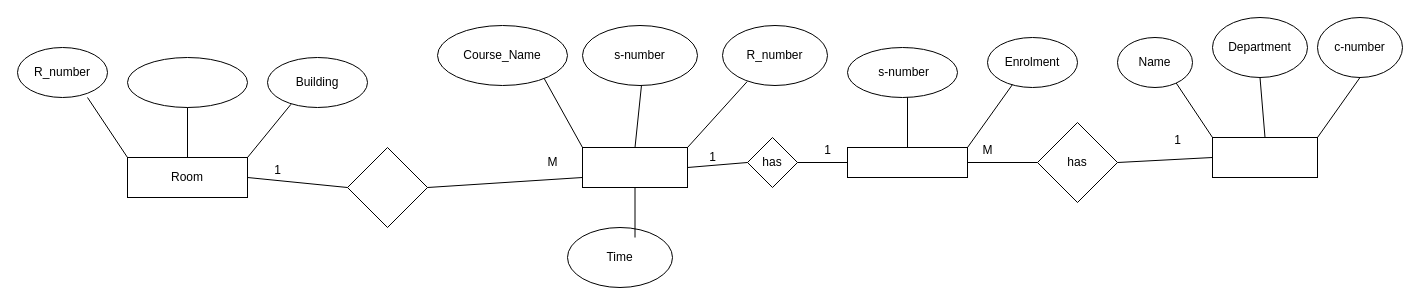
This 1420x305 diagram has some shape labels left out. Here are the shapes that lost their labels. From the top down, the centre of each, then its label:
the point at 187,82: Capacity
the point at 635,167: Exam
the point at 907,162: Sections
the point at 1265,157: Courses
the point at 387,187: Scheduled
